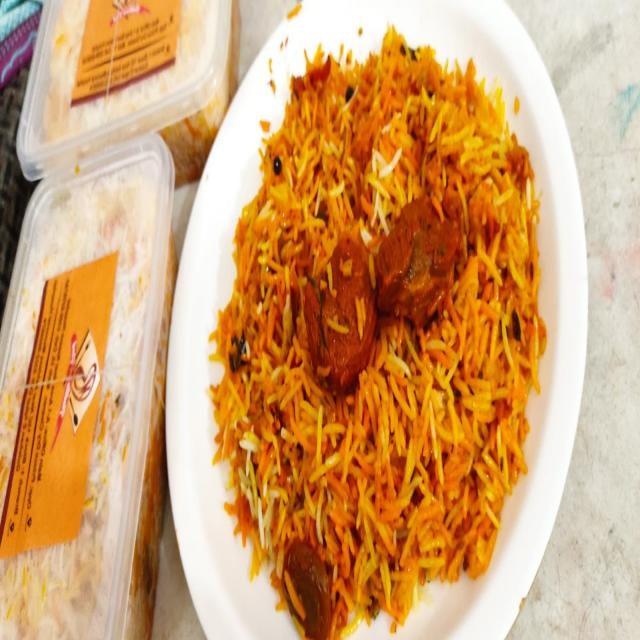Biryani: (214, 71, 534, 628)
